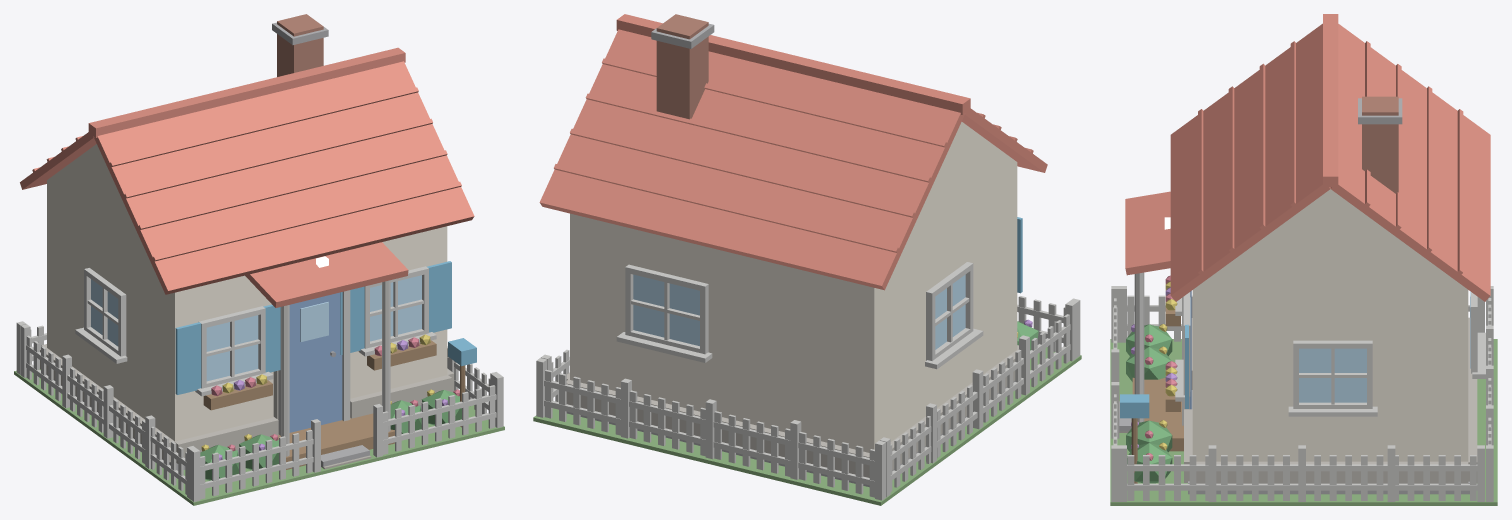
The model's file is casa.glb.
The picture shows the model from 3 angles, left to right: view 1: azimuth 30°, elevation 25°; view 2: azimuth 150°, elevation 25°; view 3: azimuth 270°, elevation 25°; orthographic projection. The views are drawn at different scales.
Visible parts, largest first — view 1: Techo, Base, Pared_del_fachada, Valla, Detalle_valla, Pared_del, Techo_Detalle, Techo_porche; view 2: Base, Techo, Valla, Detalle_valla, Techo_Detalle; view 3: Base, Techo, Valla, Techo_Detalle, Detalle_valla, Techo_porche, Pared_del_fachada, Detalle, Pared_del.
Part boxes in pixels (x1,y1,x2,y2): Techo: [20, 14, 474, 294]; Base: [14, 180, 504, 505]; Pared_del_fachada: [174, 228, 451, 463]; Valla: [16, 321, 503, 501]; Detalle_valla: [26, 325, 495, 499]; Pared_del: [278, 290, 350, 435]; Techo_Detalle: [32, 87, 461, 261]; Techo_porche: [245, 242, 408, 307]; Base: [533, 162, 1081, 505]; Techo: [539, 14, 1047, 290]; Valla: [536, 298, 1080, 500]; Detalle_valla: [545, 296, 1069, 497]; Techo_Detalle: [554, 58, 1033, 252]; Base: [1110, 217, 1497, 505]; Techo: [1170, 14, 1490, 301]; Valla: [1111, 286, 1493, 501]; Techo_Detalle: [1198, 41, 1463, 274]; Detalle_valla: [1114, 295, 1491, 500]; Techo_porche: [1125, 191, 1170, 275]; Pared_del_fachada: [1165, 275, 1192, 482]; Detalle: [1131, 324, 1167, 460]; Pared_del: [1182, 291, 1191, 425].
Bounding box in the file's own units: 4 × 4.12 × 4.
